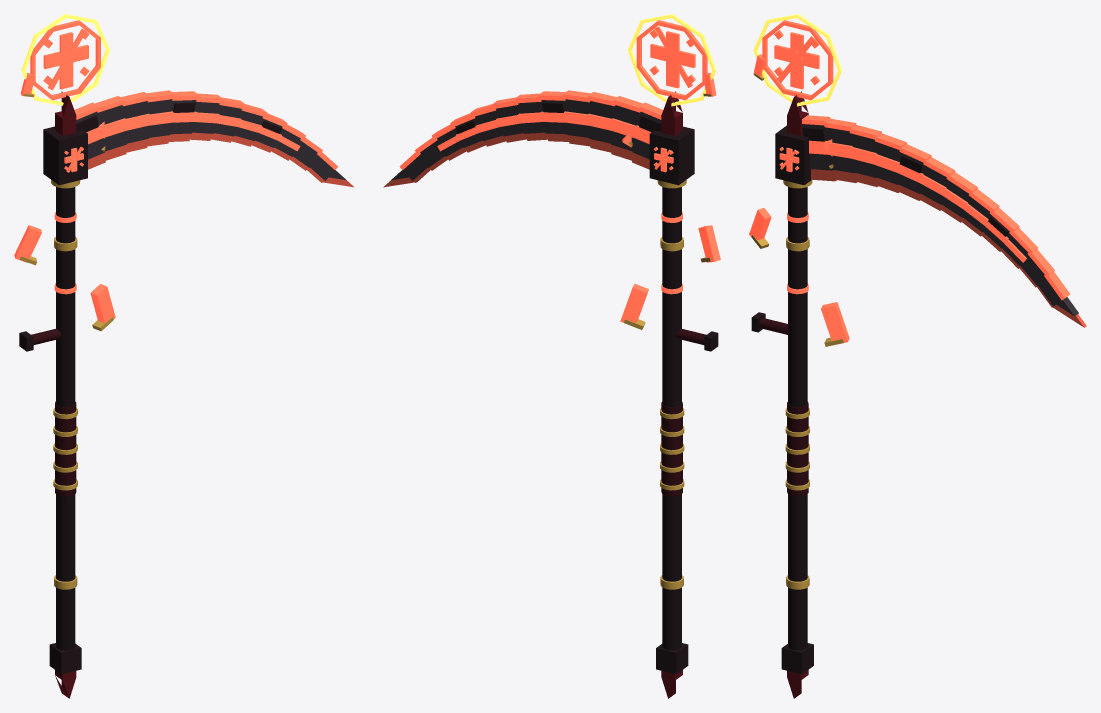
3 views of the same model, side by side, from view 1: azimuth 30°, elevation 25°; view 2: azimuth 150°, elevation 25°; view 3: azimuth 330°, elevation 25° (orthographic).
Parts seen in each view (by area): view 1: crimson-dominion; view 2: crimson-dominion; view 3: crimson-dominion.
Part boxes in pixels (x1,y1,x2,y2): crimson-dominion: [14, 14, 353, 698]; crimson-dominion: [383, 14, 720, 698]; crimson-dominion: [749, 14, 1086, 698].
Bounding box in the file's own units: 1.06 × 2.04 × 0.1053.
